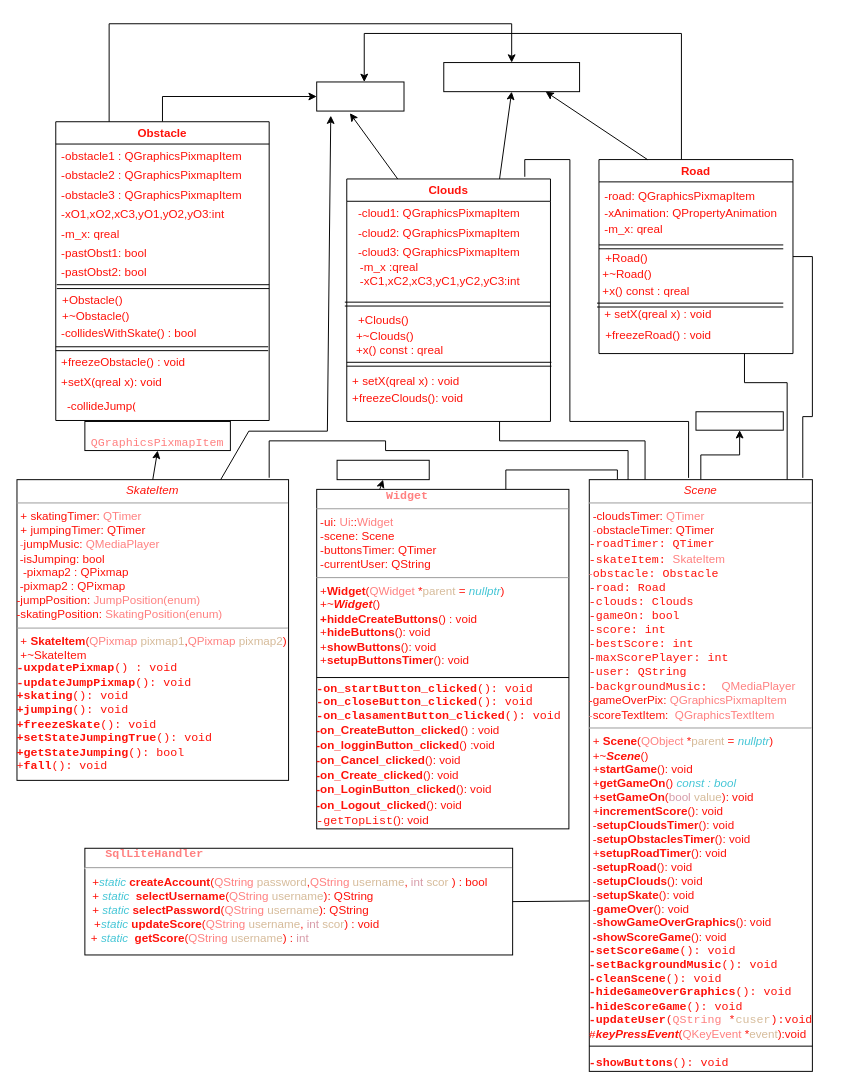
This 849x1088 diagram has some shape labels left out. Here are the shapes that lost their labels. From the top down, the centre of each, then its label:
At (x=360, y=96): "QObject".
At (x=511, y=77): "QGraphicsItemGroup".
At (x=739, y=420): "QGraphicsScene".
At (x=382, y=469): "QWidget".
